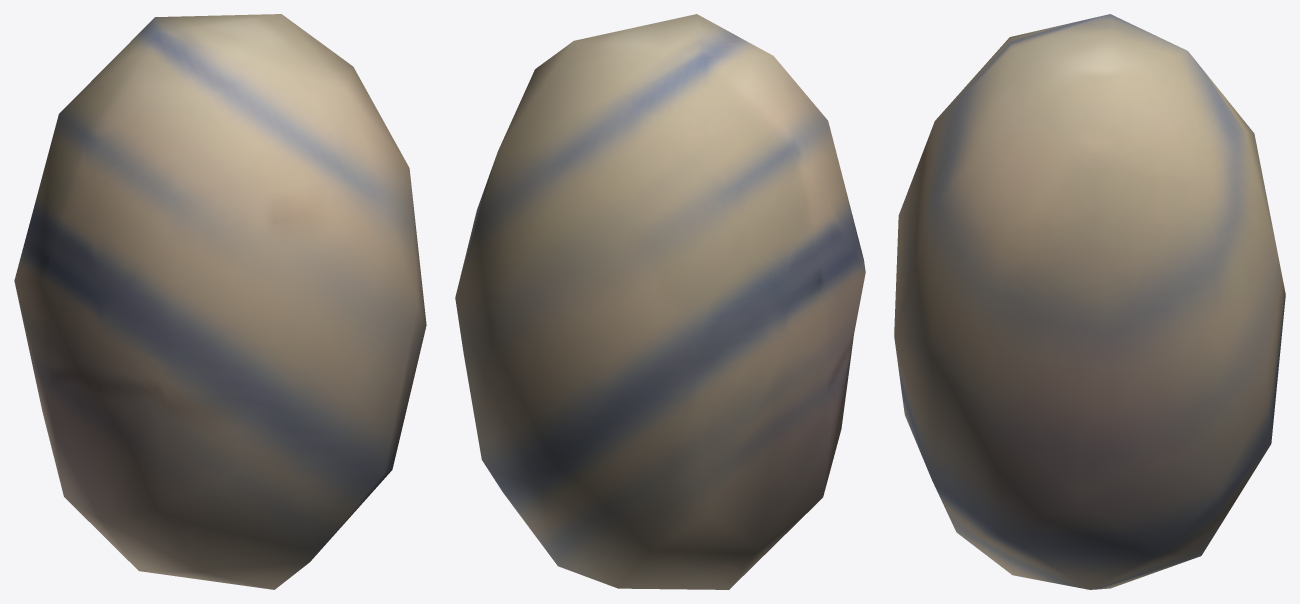
The model's file is SM_Gem_Moonstone_Piece_001.fbx.
The picture shows the model from 3 angles, left to right: view 1: azimuth 30°, elevation 25°; view 2: azimuth 150°, elevation 25°; view 3: azimuth 270°, elevation 25°; orthographic projection.
Parts seen in each view (by area): view 1: SM_Gem_Moonstone_Piece_001; view 2: SM_Gem_Moonstone_Piece_001; view 3: SM_Gem_Moonstone_Piece_001.
Part boxes in pixels (x1,y1,x2,y2): SM_Gem_Moonstone_Piece_001: (14,14,426,589); SM_Gem_Moonstone_Piece_001: (455,14,865,589); SM_Gem_Moonstone_Piece_001: (894,14,1285,589).
Size of the model in its own units: 13.05 by 19.67 by 12.91.
